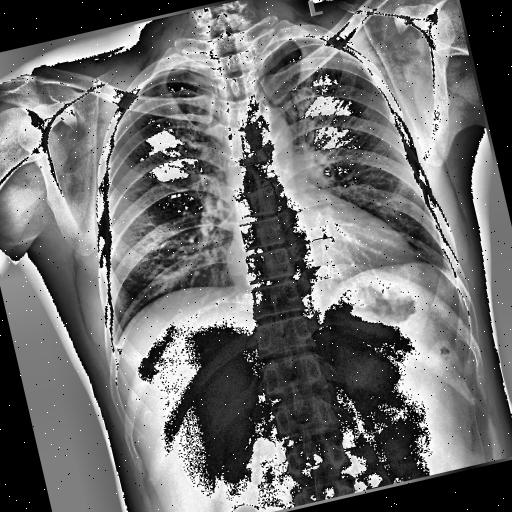10- Pleural effusion: (106, 330, 126, 358)
11- Pleural thickening: (106, 330, 126, 358)
3- Cardiomegaly: (224, 193, 424, 315), (219, 192, 418, 308), (219, 203, 419, 308)
